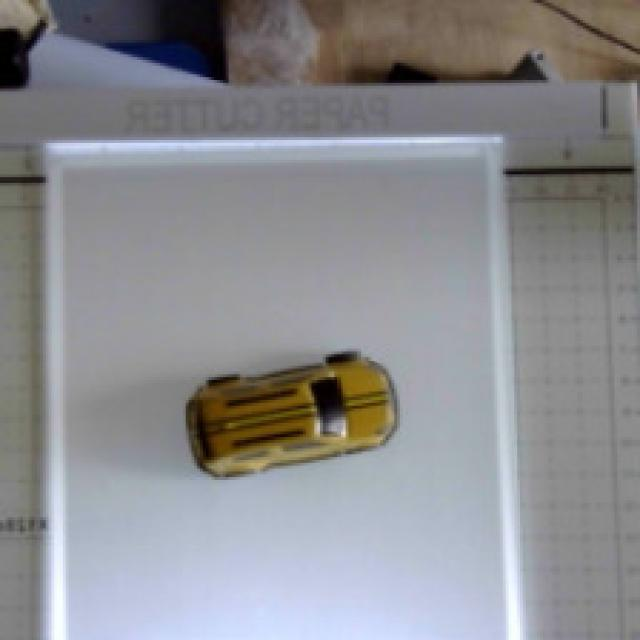Yellow Car: (152, 297, 423, 527)
